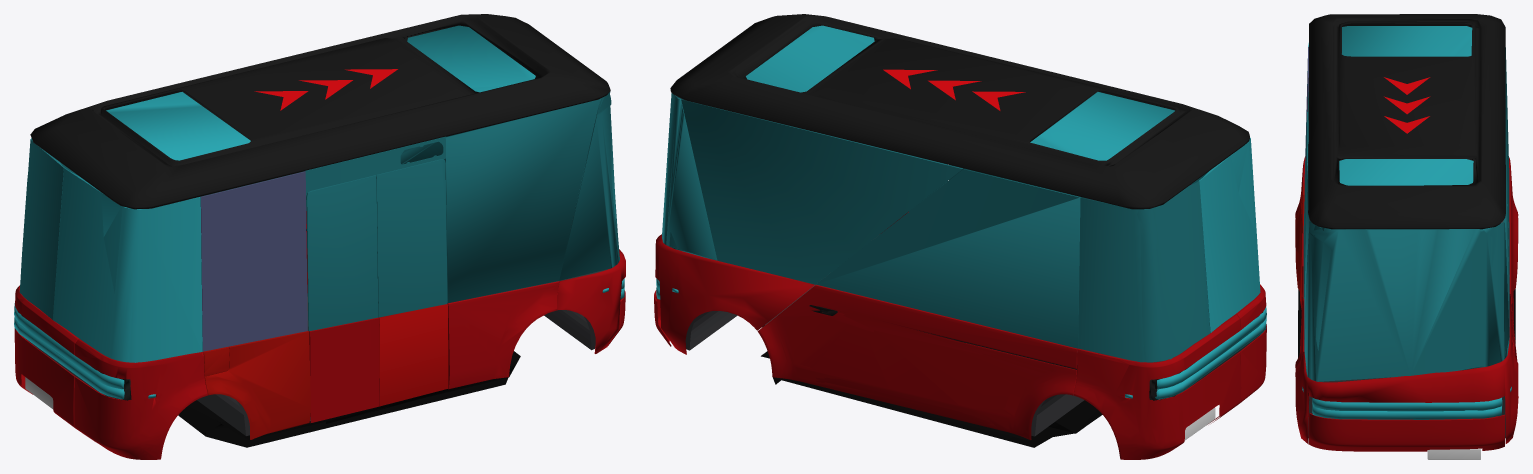
File: vbb1_body-red.fbx
3 renders of one model, left to right at view 1: azimuth 30°, elevation 25°; view 2: azimuth 150°, elevation 25°; view 3: azimuth 270°, elevation 25°, orthographic. The views are drawn at different scales.
Visible parts, largest first — view 1: Roof, Glass_Ext.002, Glass_Ext.007, Glass_Ext.001, Glass_Right_Door, Glass_Left_Door, Glass_Roof, Body_Main.002, Body_Main, Body_Main.003, Doors_Left, Glass_Ext (+11 smaller); view 2: Roof, Glass_Ext.004, Glass_Ext.005, Body_Main.006, Glass_Ext.006, Body_Main.001, Glass_Roof, Body_Main.004, Glass_Ext.007, Glass_Ext, Underbody, Glass_Lights.008 (+4 smaller); view 3: Roof, Glass_Ext, Body_Main.004, Glass_Roof, Body_Main.005, Glass_Lights.007, Body_Main.006, Plane, Body_Main.003, License_Plate.001, Glass_Ext.004, Glass_Ext.005 (+4 smaller).
Part boxes in pixels (box(x1,y1,x2,y2)): Roof: box(30, 14, 610, 209); Glass_Ext.002: box(445, 99, 599, 302); Glass_Ext.007: box(53, 168, 202, 362); Glass_Ext.001: box(200, 171, 307, 351); Glass_Right_Door: box(376, 159, 447, 317); Glass_Left_Door: box(306, 175, 378, 331); Glass_Roof: box(106, 25, 535, 160); Body_Main.002: box(74, 339, 207, 459); Body_Main: box(203, 281, 559, 389); Body_Main.003: box(204, 331, 310, 439); Doors_Left: box(309, 317, 379, 422); Glass_Ext: box(461, 92, 619, 280); Roof: box(670, 14, 1249, 209); Glass_Ext.004: box(681, 99, 962, 284); Glass_Ext.005: box(816, 169, 1080, 348); Body_Main.006: box(757, 285, 1077, 439); Glass_Ext.006: box(1078, 181, 1210, 362); Body_Main.001: box(1073, 314, 1241, 459); Glass_Roof: box(746, 25, 1174, 160); Body_Main.004: box(655, 234, 814, 354); Glass_Ext.007: box(1192, 137, 1260, 332); Glass_Ext: box(662, 93, 717, 260); Underbody: box(761, 351, 1102, 447); Glass_Lights.008: box(1155, 306, 1266, 399); Roof: box(1308, 14, 1505, 229); Glass_Ext: box(1304, 220, 1509, 381); Body_Main.004: box(1295, 294, 1518, 444); Glass_Roof: box(1339, 26, 1473, 185); Body_Main.005: box(1309, 413, 1504, 451); Glass_Lights.007: box(1312, 397, 1502, 419); Body_Main.006: box(1509, 180, 1518, 360); Plane: box(1384, 77, 1430, 133); Body_Main.003: box(1295, 195, 1304, 309); License_Plate.001: box(1427, 449, 1480, 459); Glass_Ext.004: box(1503, 99, 1509, 335); Glass_Ext.005: box(1505, 48, 1509, 292).
Size of the model in its own units: 509 by 210 by 264.
